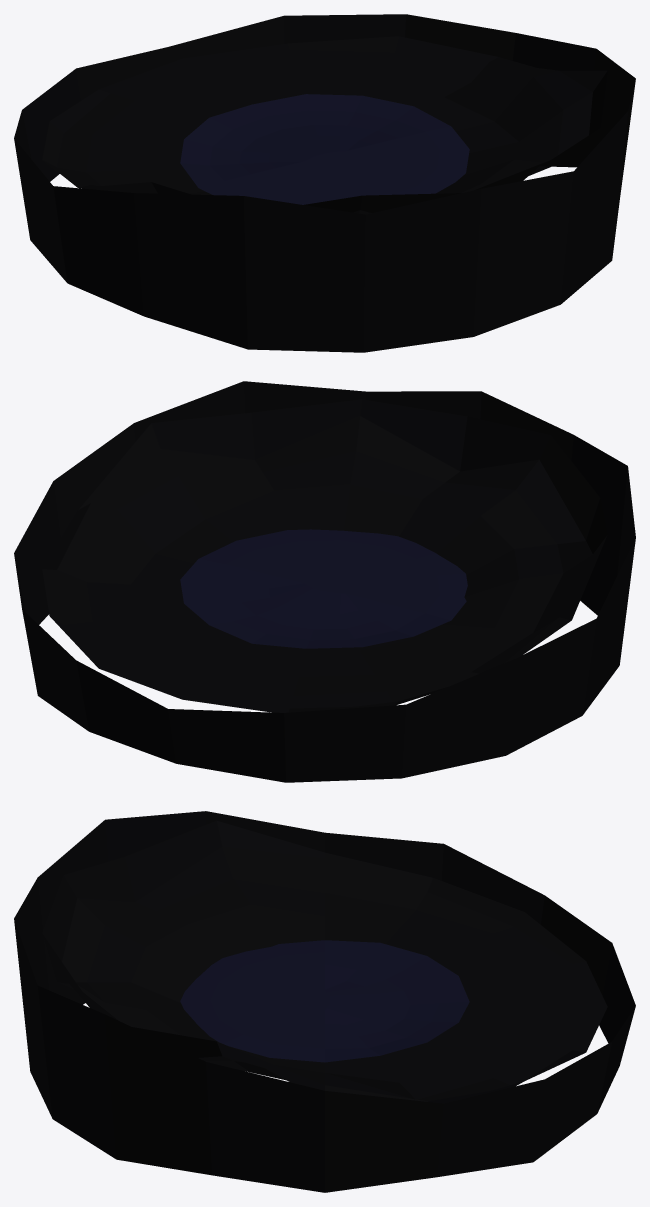
The model's file is ground.obj.
3 renders of one model, top to bottom at view 1: azimuth 30°, elevation 25°; view 2: azimuth 150°, elevation 25°; view 3: azimuth 270°, elevation 25°, orthographic.
Visible parts, largest first — view 1: Circle; view 2: Circle; view 3: Circle.
Boxes of the visible parts, x1=… form: Circle: x1=14, y1=14, x2=635, y2=352; Circle: x1=14, y1=381, x2=635, y2=782; Circle: x1=14, y1=811, x2=635, y2=1192.
Bounding box in the file's own units: 275 × 78.85 × 275.
